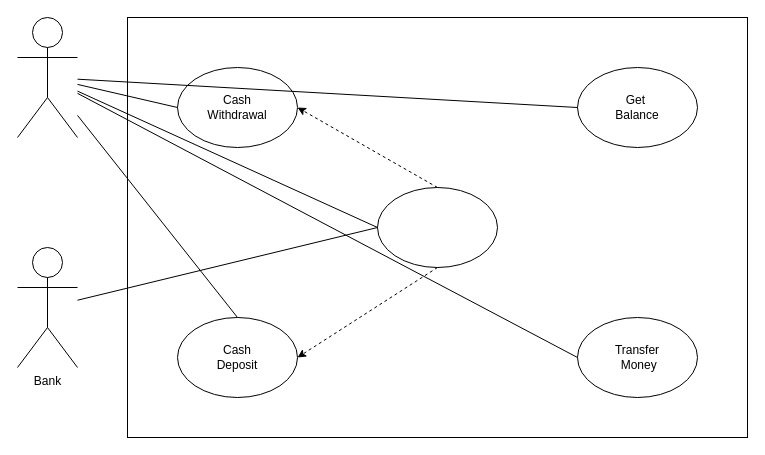
This 765x455 diagram has some shape labels left out. The centre of each missing label's shape, as x and y in pixels:
Bank Approval: point 437,227
Customer: point 47,77
